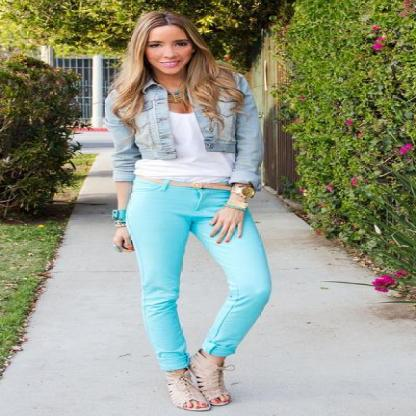jacket: (88, 86, 264, 186)
pants: (118, 178, 272, 371)
shirt: (138, 112, 248, 186)
shoe: (162, 351, 237, 403)
